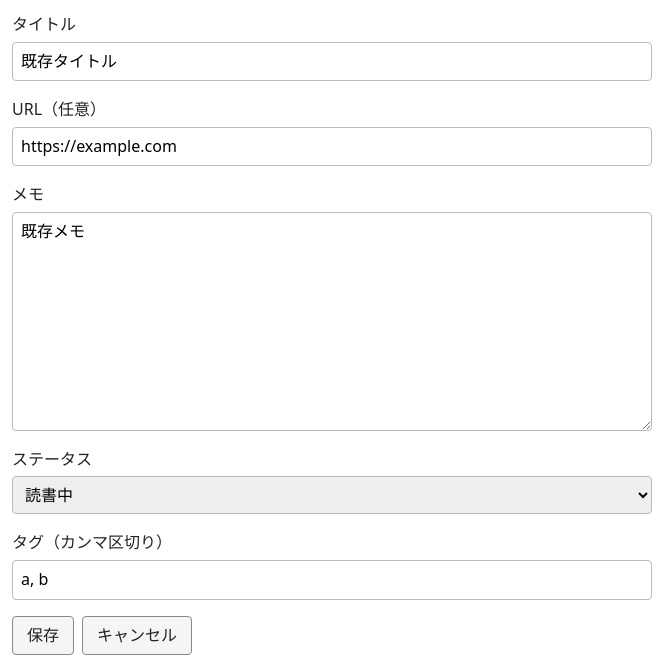
it: 送信中は保存ボタンを無効化する
Click the button "保存": coordinates (43, 635) top-left (12, 616), bottom-right (74, 655)
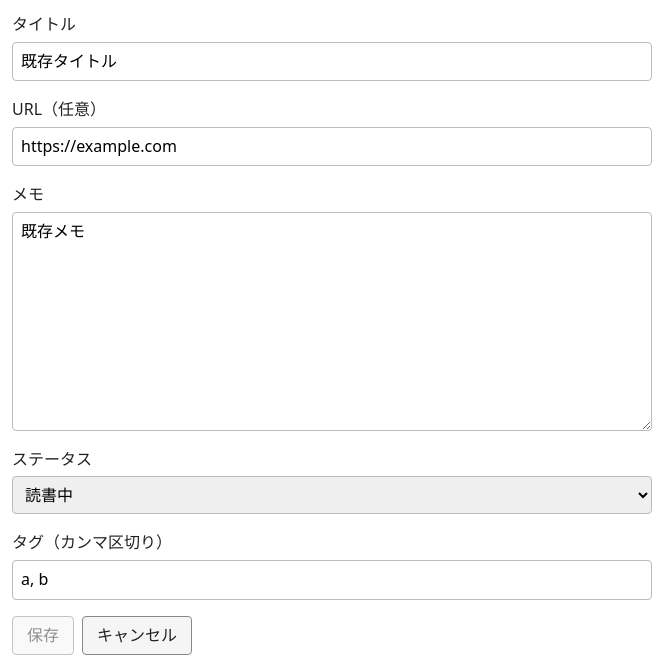
Result: the button "保存" is disabled at top-left (12, 616), bottom-right (74, 655)
